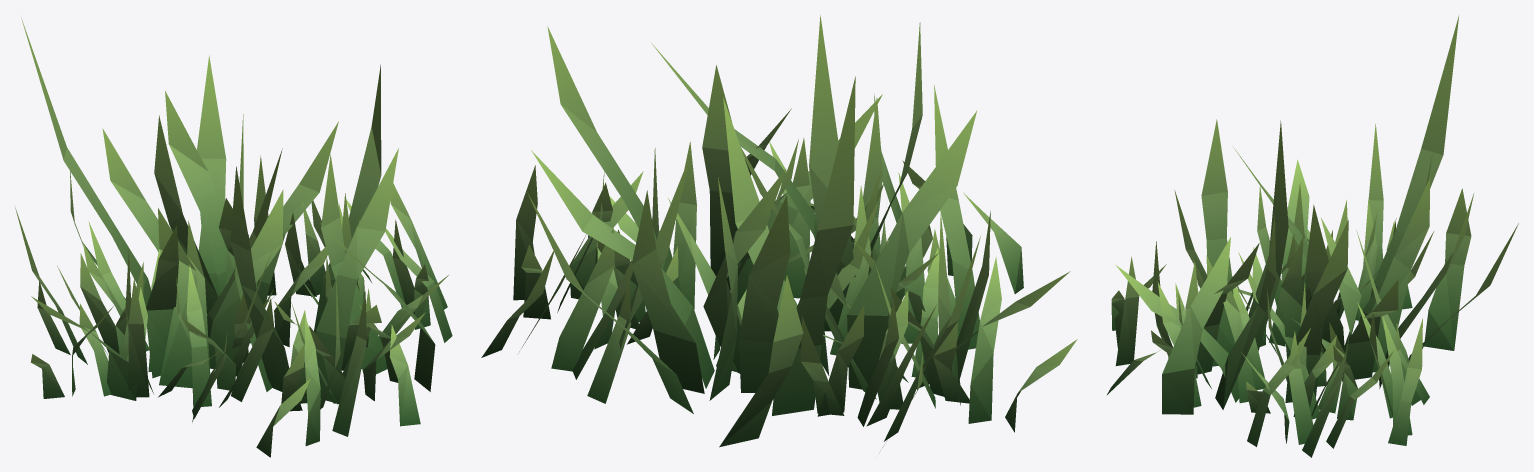
File: SM_Algae_3.fbx
The picture shows the model from 3 angles, left to right: view 1: azimuth 30°, elevation 25°; view 2: azimuth 150°, elevation 25°; view 3: azimuth 270°, elevation 25°; orthographic projection. The views are drawn at different scales.
Visible parts, largest first — view 1: Algae_3; view 2: Algae_3; view 3: Algae_3.
Boxes of the visible parts, bbox=[...] form: Algae_3: bbox=[15, 17, 452, 457]; Algae_3: bbox=[481, 15, 1077, 447]; Algae_3: bbox=[1107, 16, 1518, 457].
Bounding box in the file's own units: 217 × 155 × 200.
